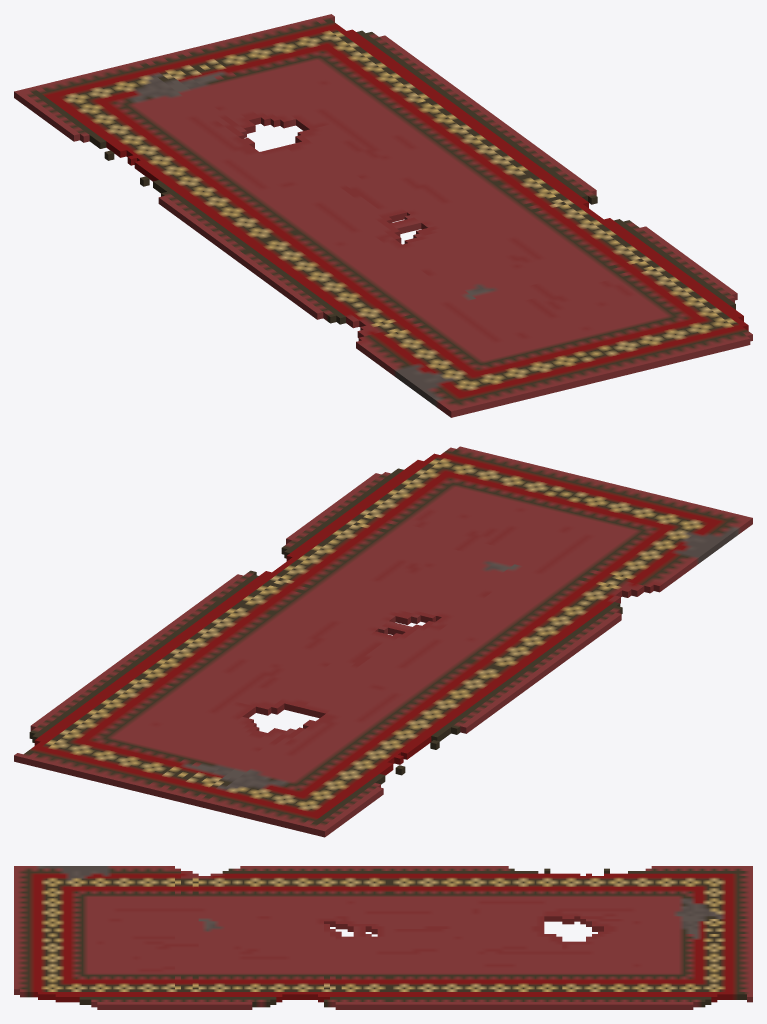
File: Decor_Carpet_00.fbx
3 views of the same model, one above another, from view 1: azimuth 30°, elevation 25°; view 2: azimuth 150°, elevation 25°; view 3: azimuth 270°, elevation 25° (orthographic). The views are drawn at different scales.
Parts seen in each view (by area): view 1: Decor_Carpet_00; view 2: Decor_Carpet_00; view 3: Decor_Carpet_00.
Boxes of the visible parts, box(x1,y1,x2,y2) form: Decor_Carpet_00: box(14, 14, 752, 417); Decor_Carpet_00: box(14, 446, 752, 837); Decor_Carpet_00: box(14, 866, 752, 1009).
Size of the model in its own units: 275 by 5 by 620.
